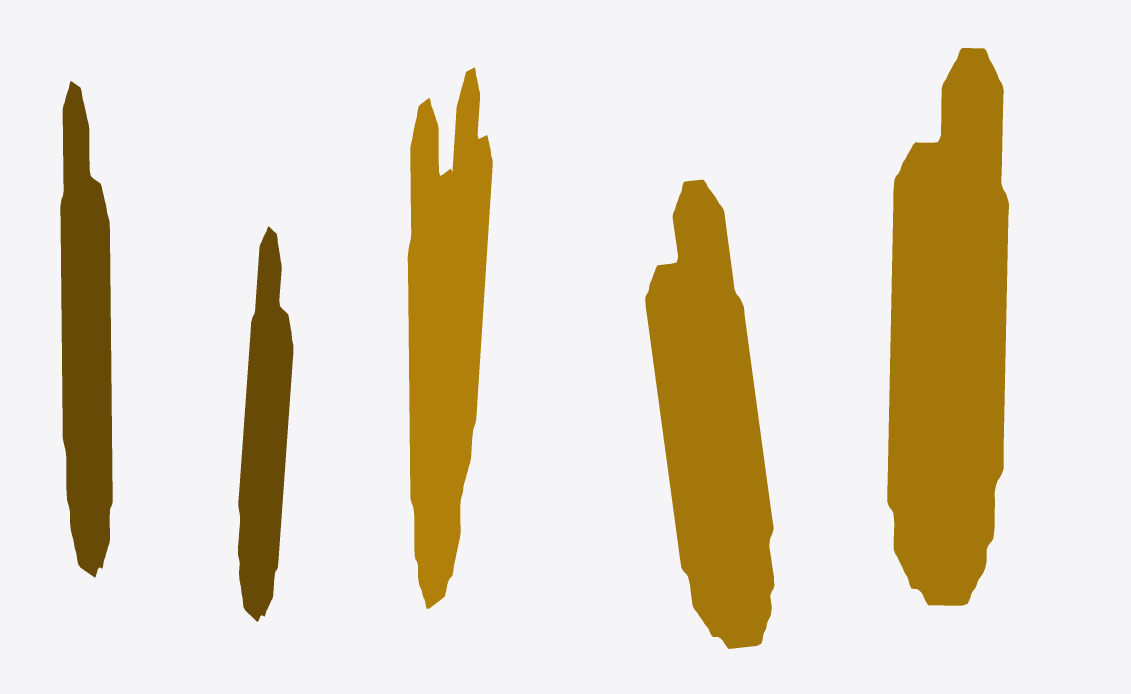
Rendered from FireTorch03_Art.glb.
3 views of the same model, side by side, from view 1: azimuth 30°, elevation 25°; view 2: azimuth 150°, elevation 25°; view 3: azimuth 270°, elevation 25° (orthographic). The views are drawn at different scales.
Visible parts, largest first — view 1: FireTorch03_Art; view 2: FireTorch03_Art; view 3: FireTorch03_Art.
Part boxes in pixels (x1,y1,x2,y2): FireTorch03_Art: (60, 81, 293, 621); FireTorch03_Art: (407, 67, 492, 608); FireTorch03_Art: (645, 48, 1008, 648).
Bounding box in the file's own units: 0.0406 × 0.2714 × 0.2197.
Materials: 1 (1 with a texture image).
